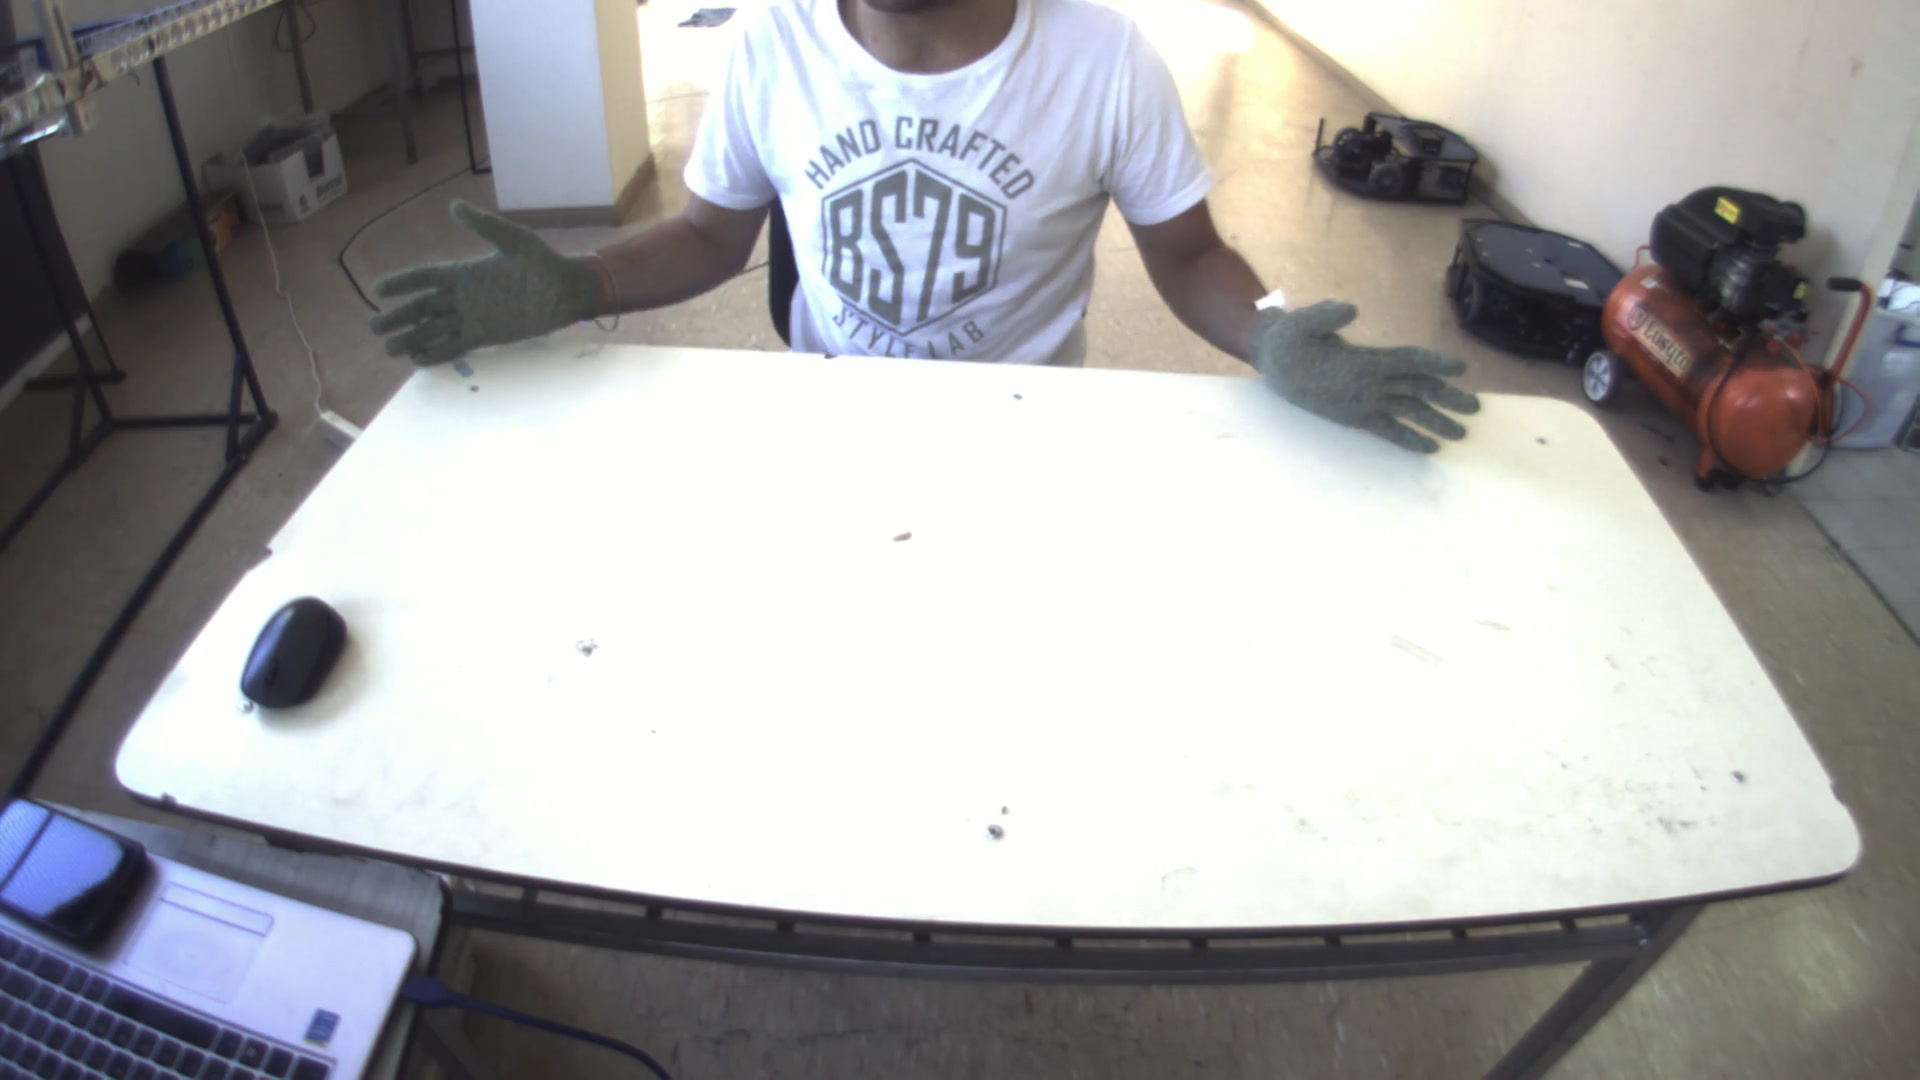hand: (348, 194, 605, 375), (1246, 289, 1499, 455)
